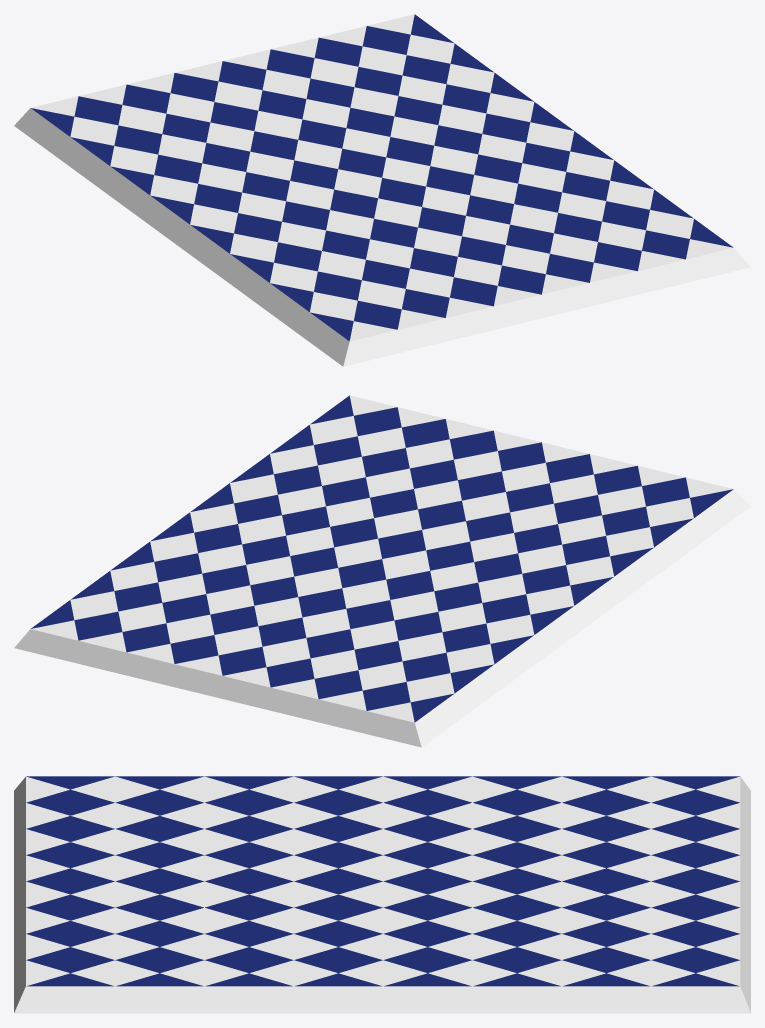
The model's file is cardclubs02.obj.
3 renders of one model, top to bottom at view 1: azimuth 30°, elevation 25°; view 2: azimuth 150°, elevation 25°; view 3: azimuth 270°, elevation 25°, orthographic. The views are drawn at different scales.
Visible parts, largest first — view 1: Cube; view 2: Cube; view 3: Cube.
Part boxes in pixels (bbox=[...]): Cube: bbox=[14, 14, 750, 366]; Cube: bbox=[14, 395, 750, 747]; Cube: bbox=[14, 776, 750, 1013].
Bounding box in the file's own units: 0.0635 × 0.00307 × 0.0888.
